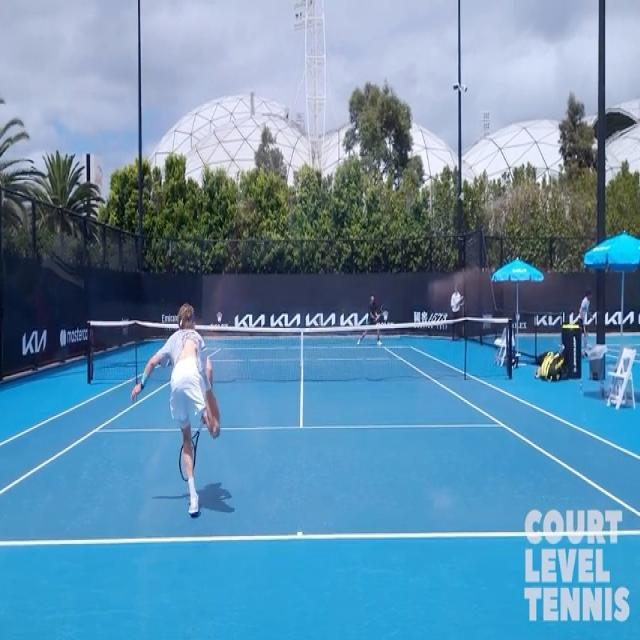serve_followthrough: (120, 265, 248, 526)
